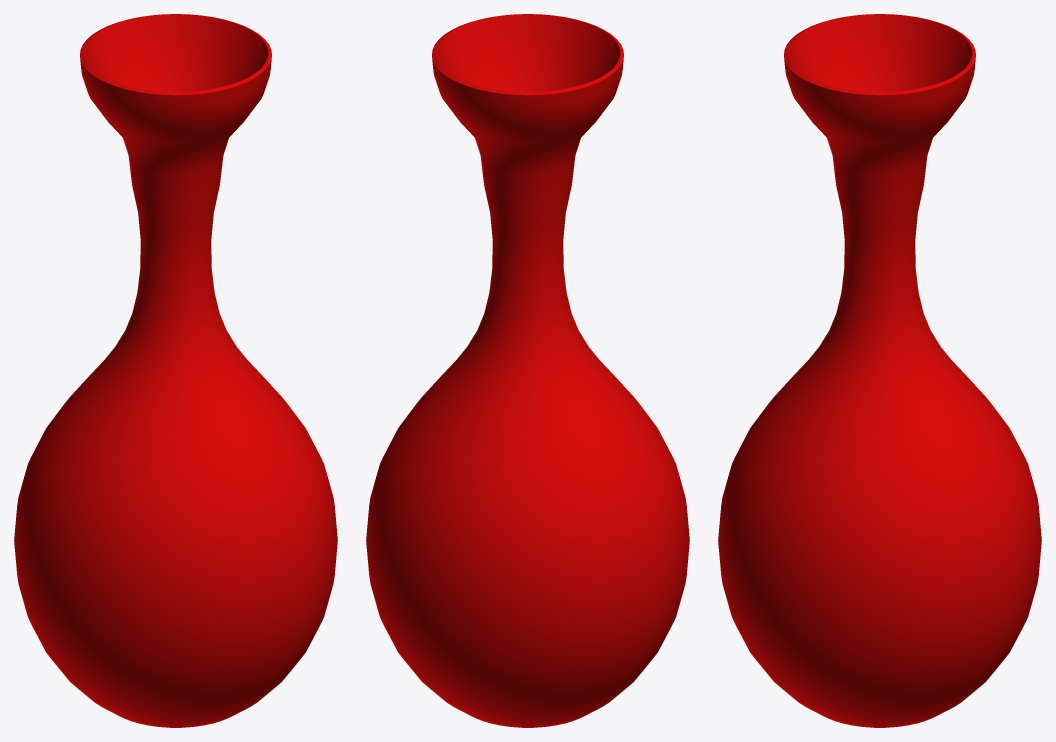
The model's file is VaseModel.fbx.
The picture shows the model from 3 angles, left to right: view 1: azimuth 30°, elevation 25°; view 2: azimuth 150°, elevation 25°; view 3: azimuth 270°, elevation 25°; orthographic projection.
Visible parts, largest first — view 1: Vase; view 2: Vase; view 3: Vase.
Boxes of the visible parts, bbox=[...] form: Vase: bbox=[14, 14, 337, 727]; Vase: bbox=[366, 14, 689, 727]; Vase: bbox=[718, 14, 1041, 727].
Size of the model in its own units: 93.15 by 209 by 93.15.
